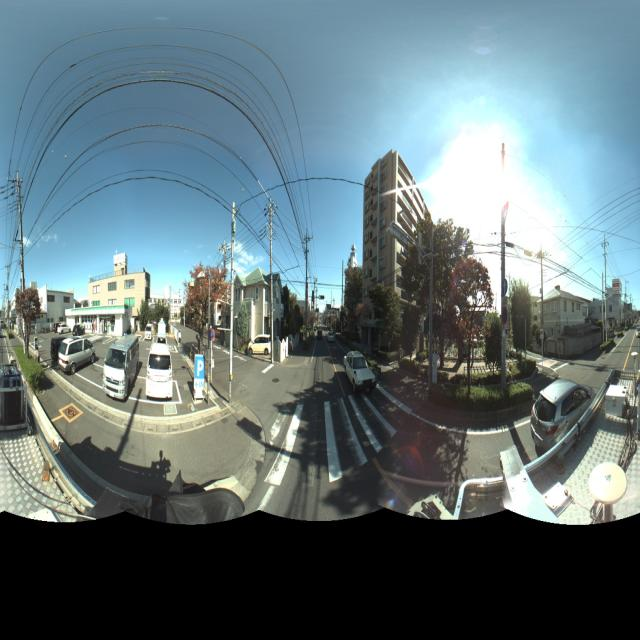b_1: (362, 155, 399, 328), (84, 262, 151, 336), (232, 269, 281, 363), (544, 275, 594, 346), (38, 270, 82, 325), (599, 270, 626, 344)
b_2: (339, 240, 377, 392), (187, 267, 235, 383), (154, 275, 193, 349)
